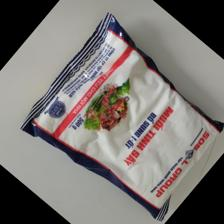Salt: (14, 12, 224, 224)
